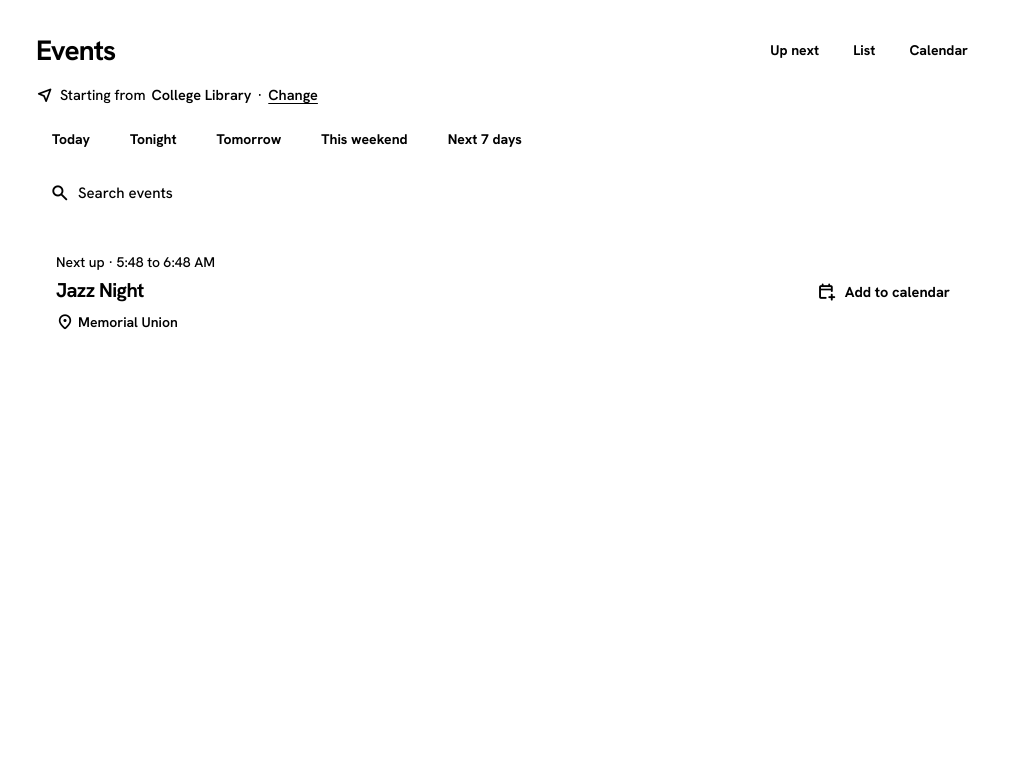
Test case: EventsPage › the pop-up shows the row it was opened from while the detail loads
Click the button "Jazz Night". click: (100,290)
box: [56,279,144,302]
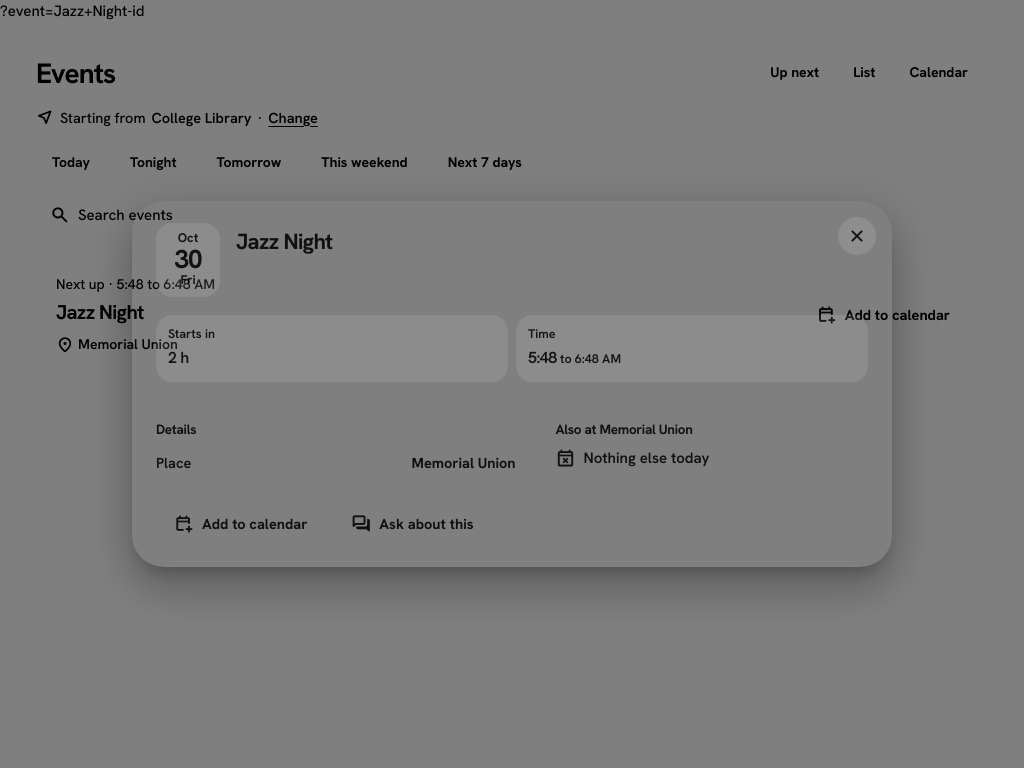
Expected: the dialog "Jazz Night" is shown, [132,201,892,567]
